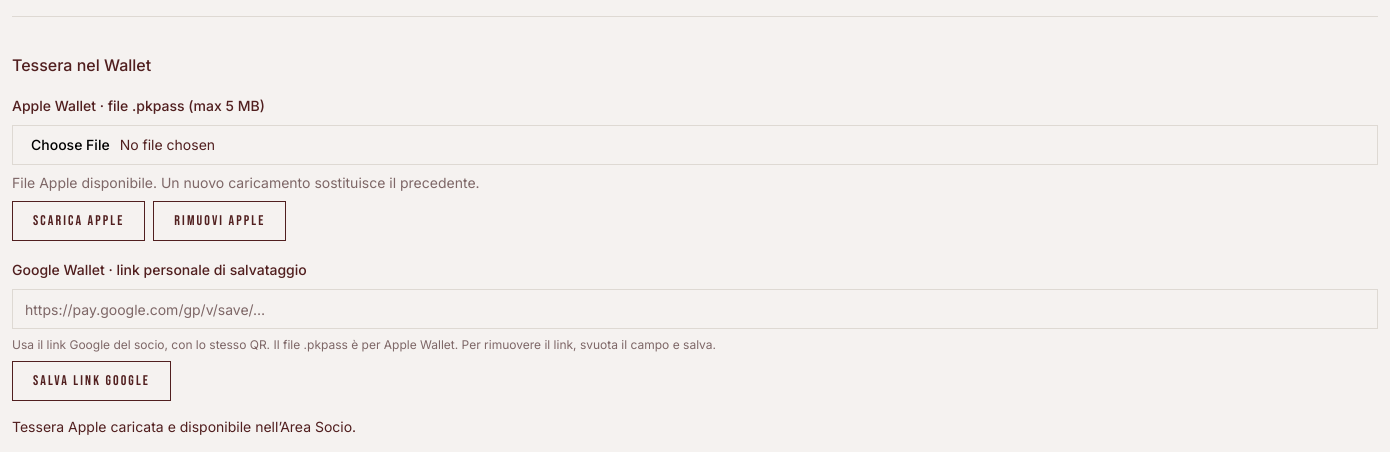
Test case: owner Wallet editor › uploads the file for the selected member and reloads its availability
Earlier steps of the test are not shown.
Expected: the text "Tessera Apple caricata e disponibile nell’Area Socio." is shown, [12, 418, 356, 435]
Type "https://pay.google.com/gp/v/save/synthetic" into the field labelled "Google Wallet · link personale di salvataggio" at (695,309), box [12, 289, 1378, 329]
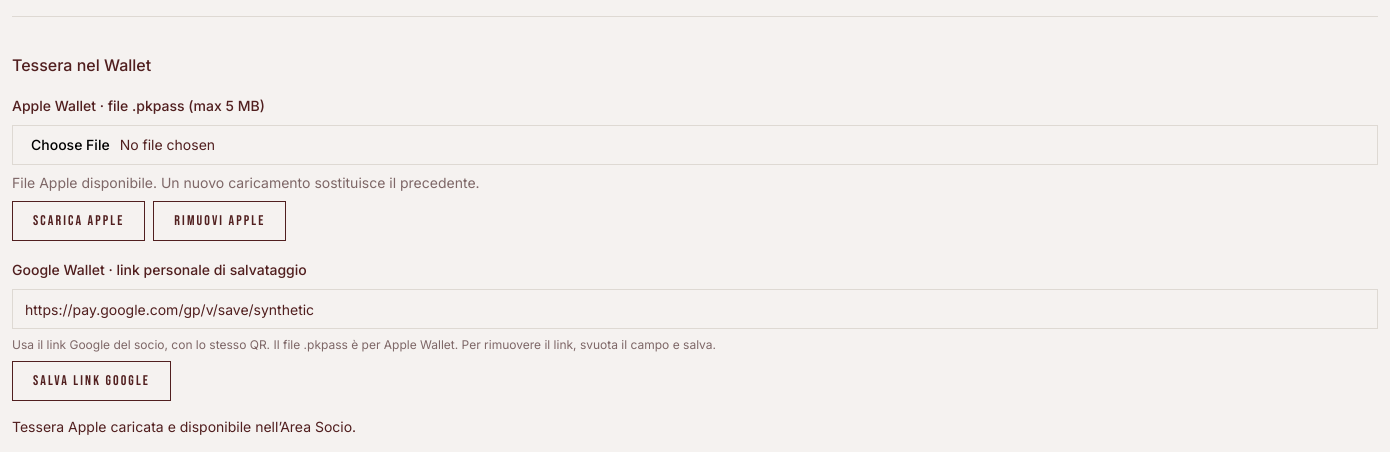
Submit the form named "Salva link Google", box [12, 257, 1378, 401]
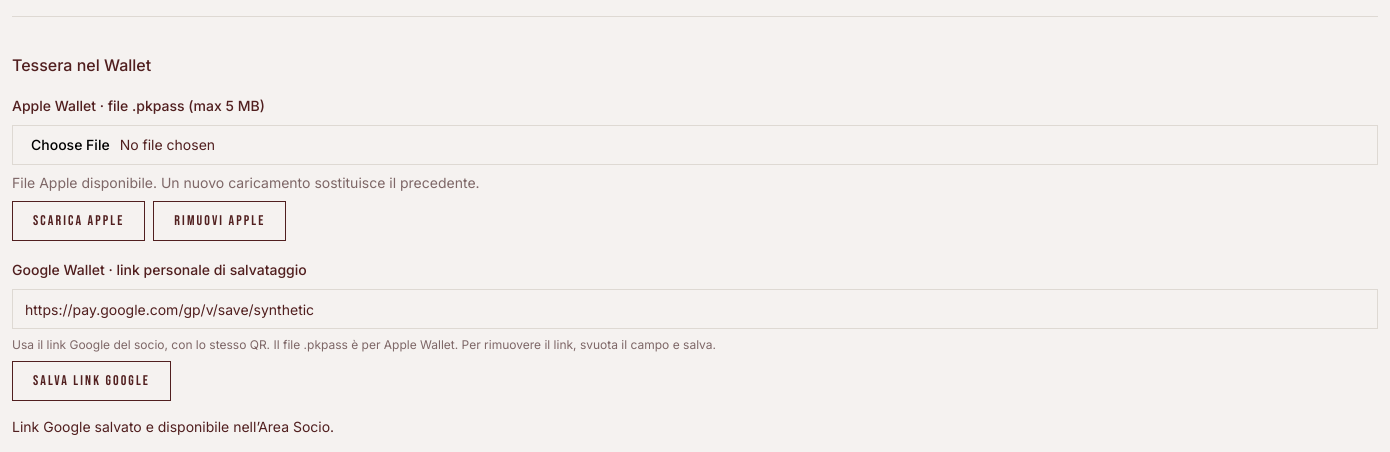
Now the text "Link Google salvato e disponibile nell’Area Socio." is shown, box [12, 418, 334, 435]
